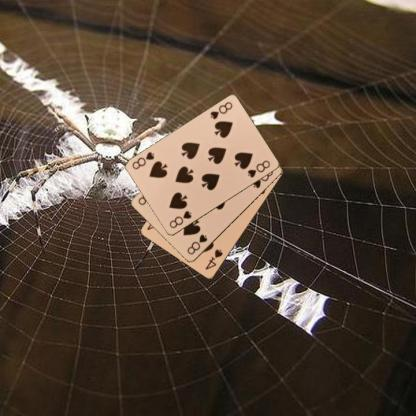4s: (202, 247, 224, 272)
8s: (207, 99, 234, 121), (184, 232, 208, 256), (166, 208, 192, 230)
